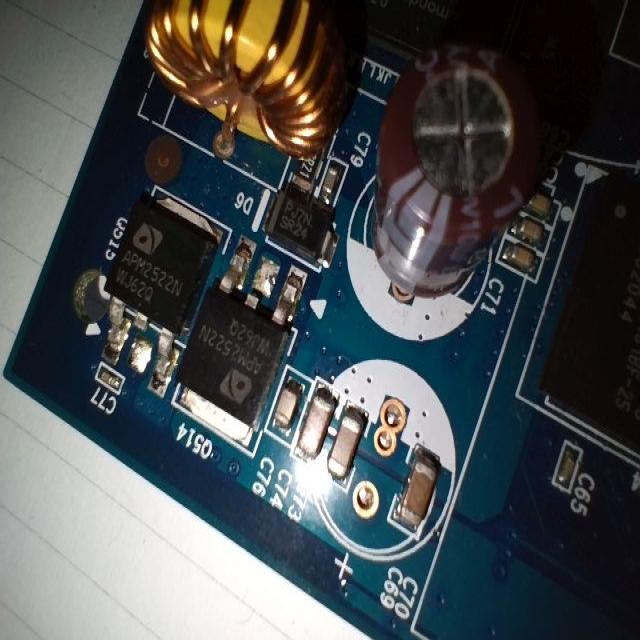capacitor: (329, 396, 368, 489), (396, 454, 442, 530), (294, 381, 332, 456), (548, 446, 597, 497), (275, 374, 300, 435), (504, 248, 544, 280), (94, 363, 129, 398), (319, 159, 345, 198), (529, 185, 554, 218), (513, 216, 548, 239)
